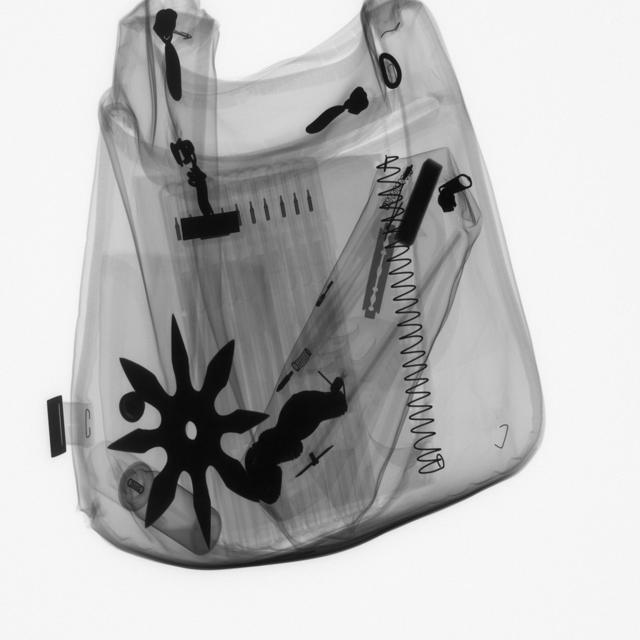razor: (357, 219, 400, 325)
shuriken: (109, 312, 279, 551)
